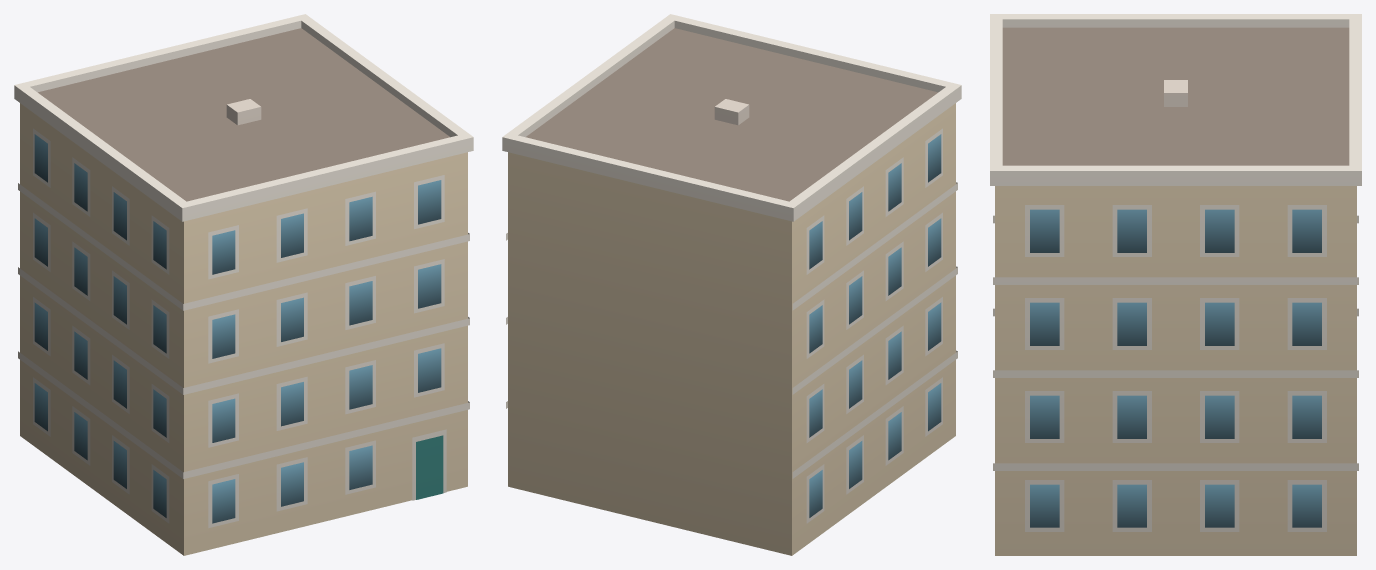
The model's file is beacon_wb1_far.glb.
3 renders of one model, left to right at view 1: azimuth 30°, elevation 25°; view 2: azimuth 150°, elevation 25°; view 3: azimuth 270°, elevation 25°, orthographic. The views are drawn at different scales.
Parts seen in each view (by area): view 1: beacon_wb1_far; view 2: beacon_wb1_far; view 3: beacon_wb1_far.
Part boxes in pixels (box(x1,y1,x2,y2)): beacon_wb1_far: box(14, 14, 473, 555); beacon_wb1_far: box(502, 14, 961, 555); beacon_wb1_far: box(990, 14, 1361, 555).
Bounding box in the file's own units: 12.32 × 14.37 × 12.32.
1 material, 1 textured.
